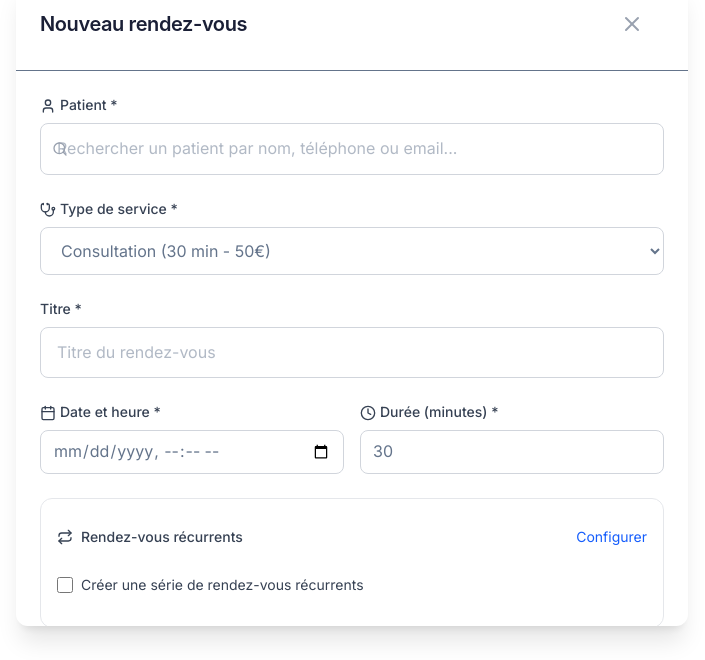
Test: AppointmentForm › Enhanced Patient Selection › should show create new patient option when no results
Step 1. Type "NonExistentPatient" into the field with placeholder "Rechercher un patient par nom, téléphone ou email..." → [352, 149], box [40,123,664,175]
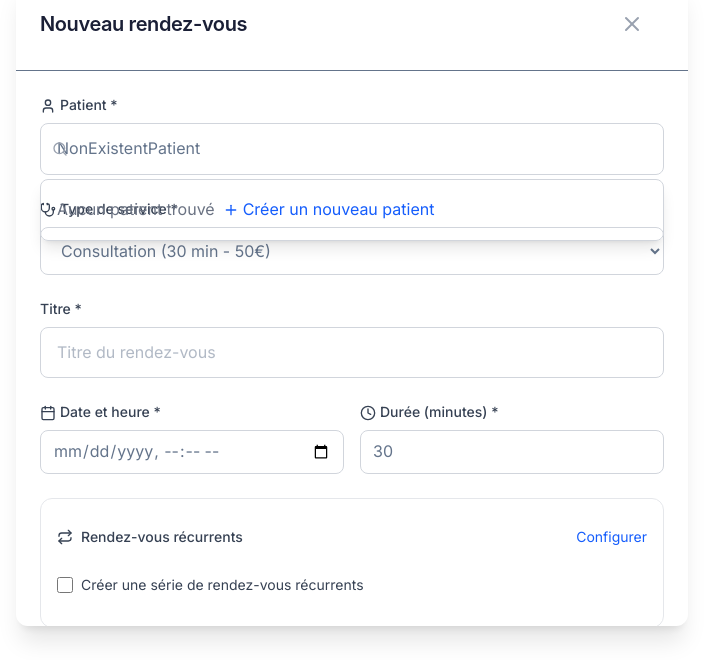
Expected: the button "Créer un nouveau patient" is shown, [223,188,434,232]
